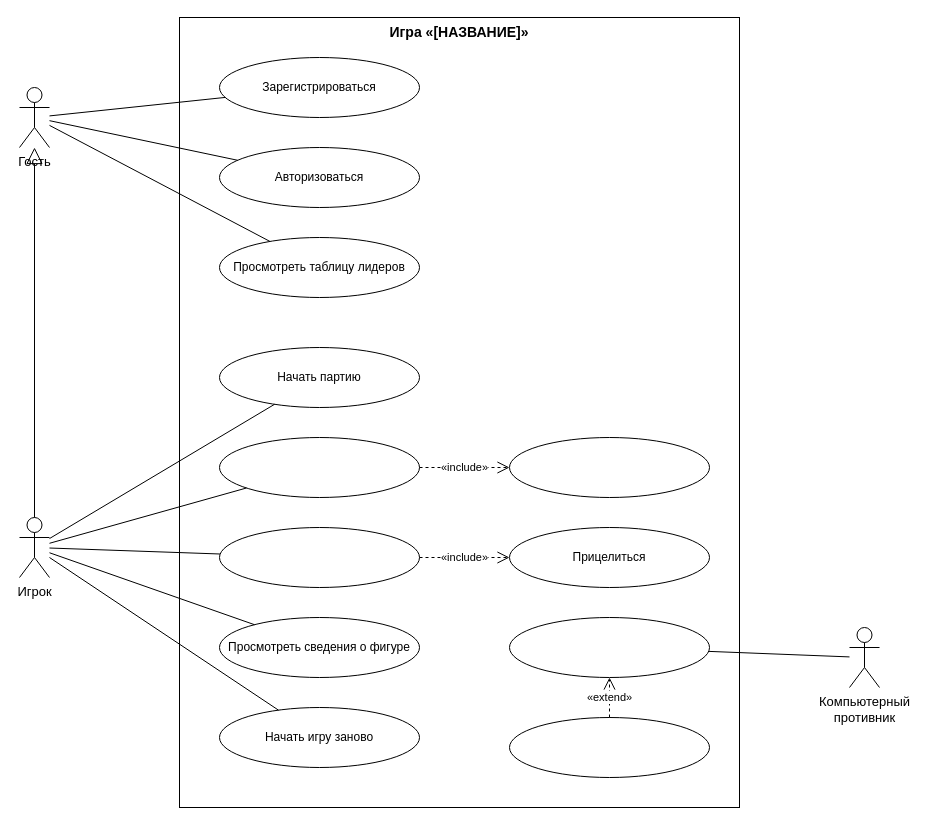
This 927x825 diagram has some shape labels left out. Here are the shapes that lost their labels. From the top down, the centre of each, then its label:
At point (319, 467): "Переместить короля".
At point (609, 467): "Перезарядить дробовик".
At point (319, 557): "Выстрелить из дробовика".
At point (609, 647): "Сделать ход белыми фигурами".
At point (609, 747): "Превратить пешку".
